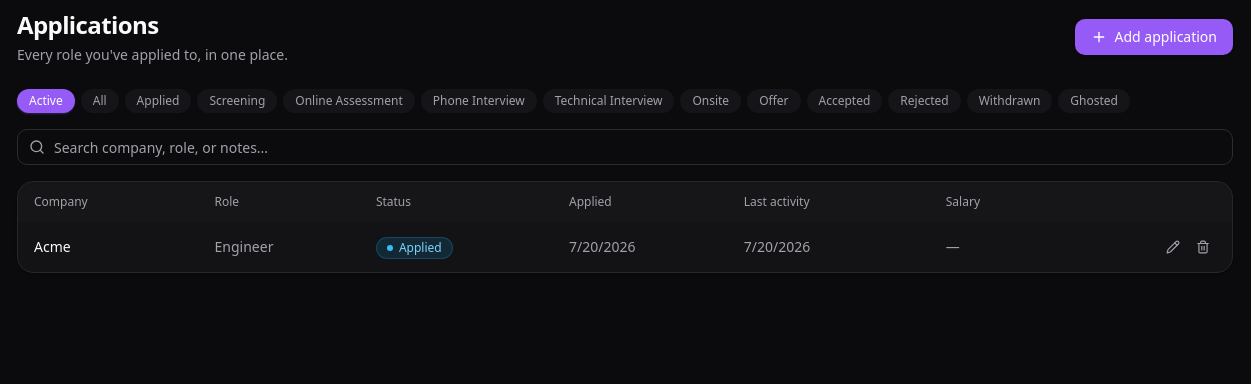
Test: Applications › shows a search-empty state that clears both search and filter
Step 1. Type "nvidia" into the search field named "Search applications" → [625, 147], box [17,129,1233,165]
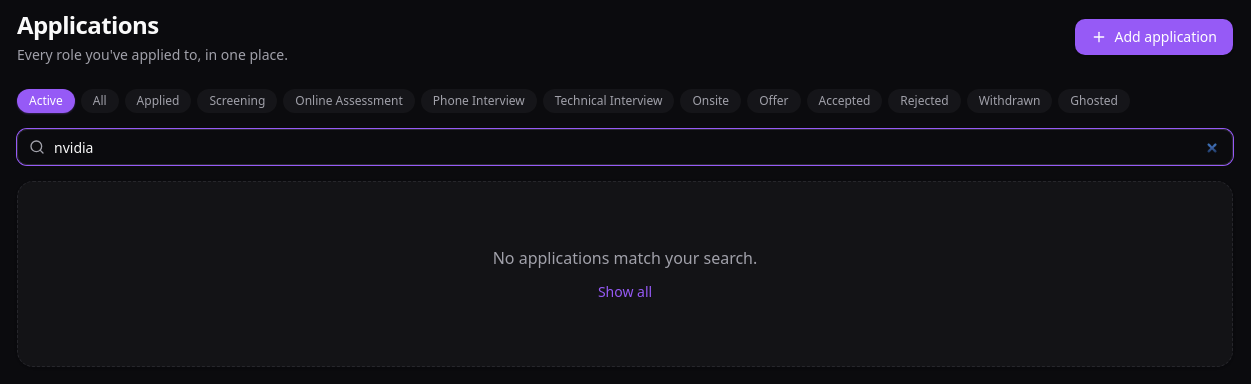
Now the text "No applications match your search." is shown, box [493,246,757,270]
Step 2. Click the button "Show all" → [625, 292], box [598,282,652,302]
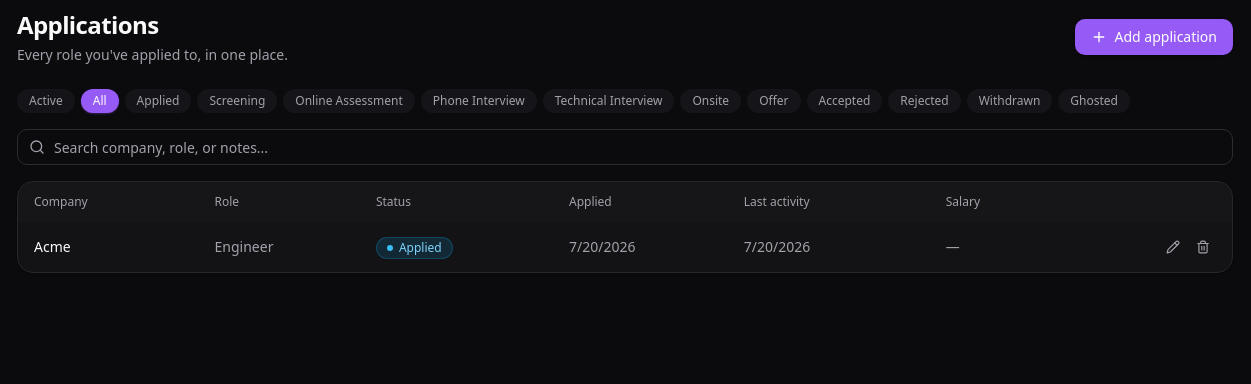
Now the text "Acme" is shown, box [34,237,71,256]
